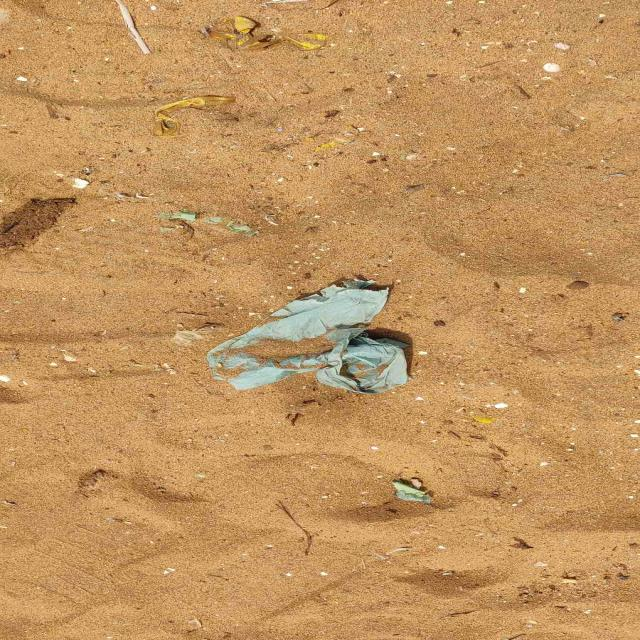giay: (206, 279, 407, 394)
